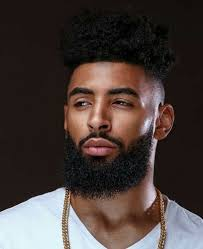black_male: (59, 49, 165, 204)
